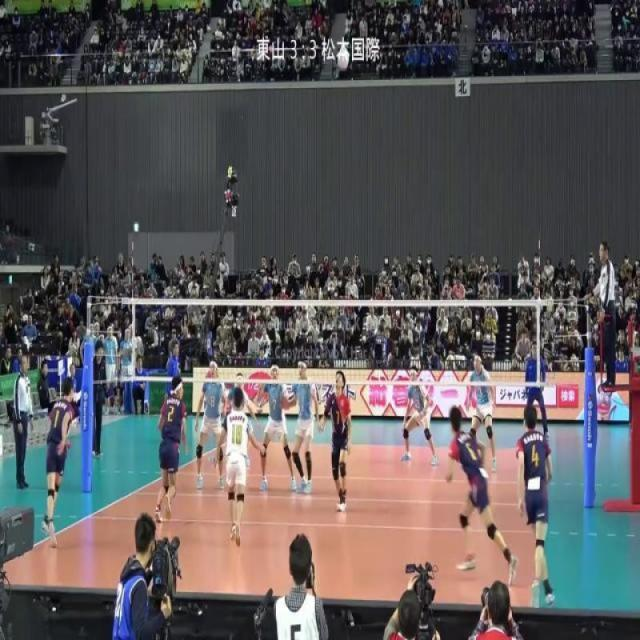volleyball: (338, 52, 350, 71)
